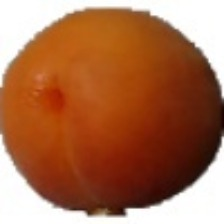apricot: (35, 29, 224, 169)
